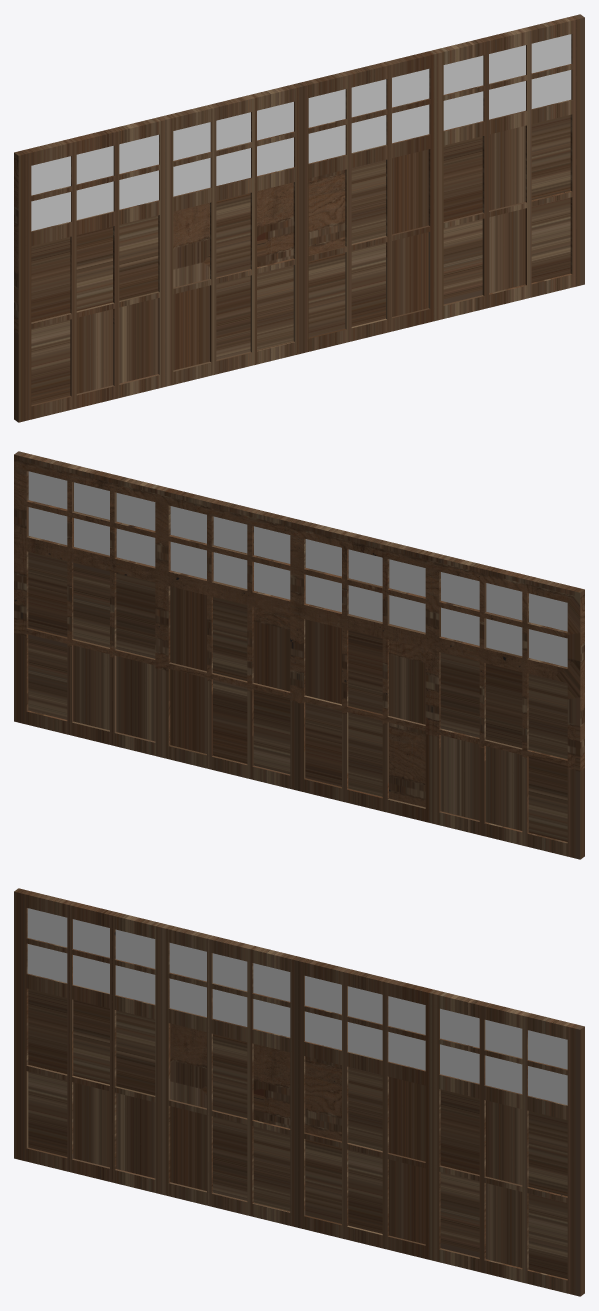
File: LP_garage-gate.fbx
3 views of the same model, one above another, from view 1: azimuth 30°, elevation 25°; view 2: azimuth 150°, elevation 25°; view 3: azimuth 330°, elevation 25° (orthographic).
Visible parts, largest first — view 1: garage_gate_low, windows_low; view 2: garage_gate_low, windows_low; view 3: garage_gate_low, windows_low.
Boxes of the visible parts, <box> form: garage_gate_low: <box>14,14,584,422</box>; windows_low: <box>31,34,571,231</box>; garage_gate_low: <box>14,451,584,859</box>; windows_low: <box>28,471,567,667</box>; garage_gate_low: <box>14,888,584,1296</box>; windows_low: <box>27,908,567,1105</box>.
Bounding box in the file's own units: 480 × 216 × 6.73.
